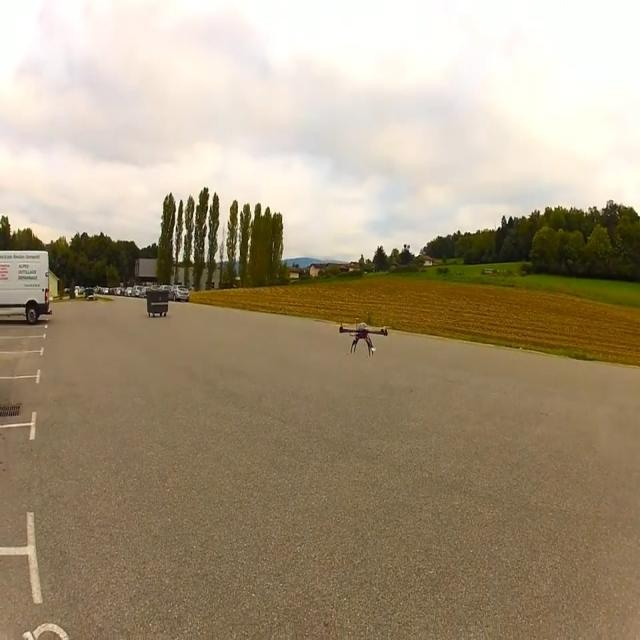drone: (338, 316, 388, 356)
